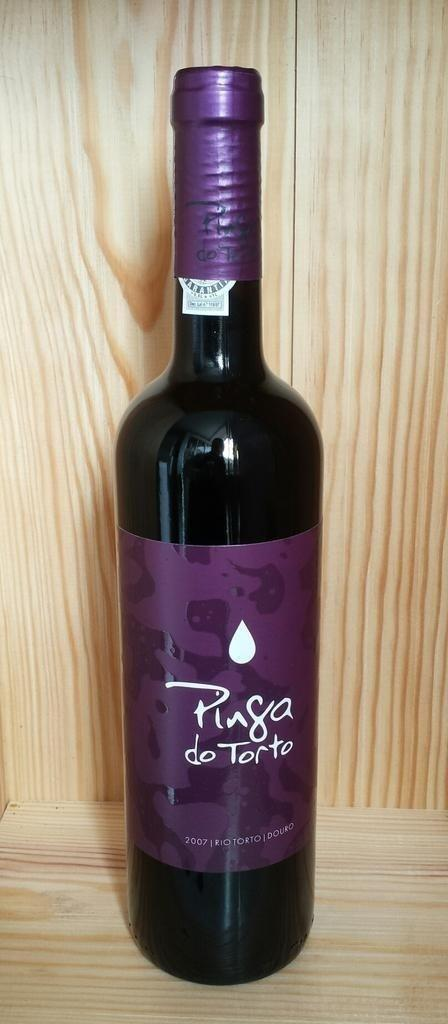bottle-glass: (106, 64, 328, 987)
